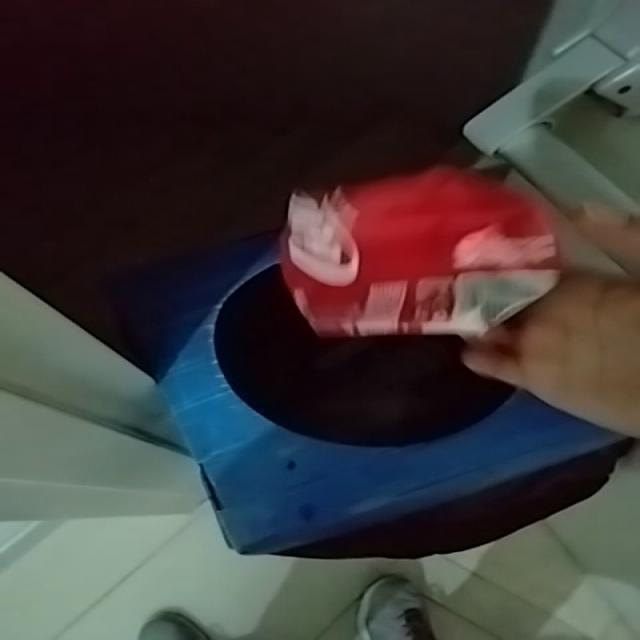Bin: (123, 237, 632, 559)
Metal: (280, 167, 559, 338)
